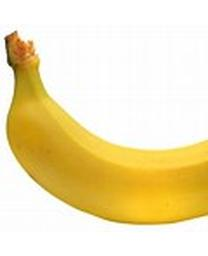banana: (3, 31, 207, 225)
